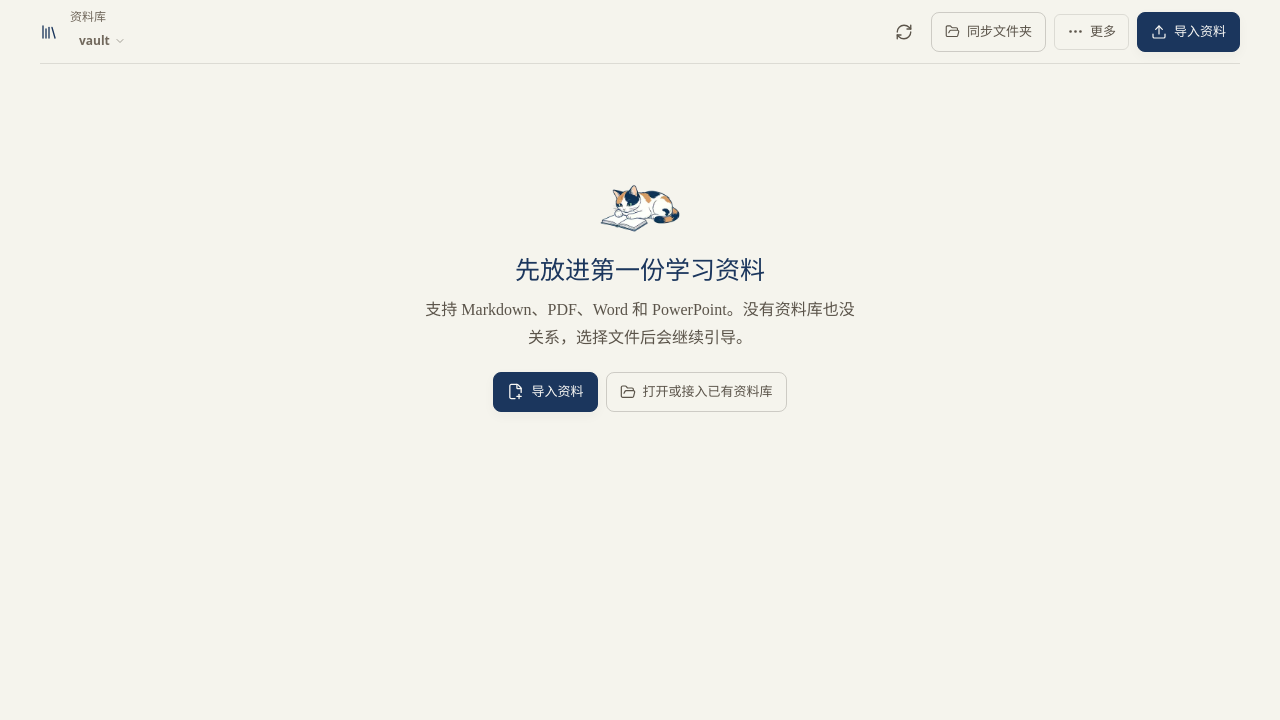
Test: 资料库文件夹同步 › 失败时给出可读错误，不显示摘要
Click the button "同步文件夹" at (988, 32), box left=931, top=12, right=1046, bottom=52
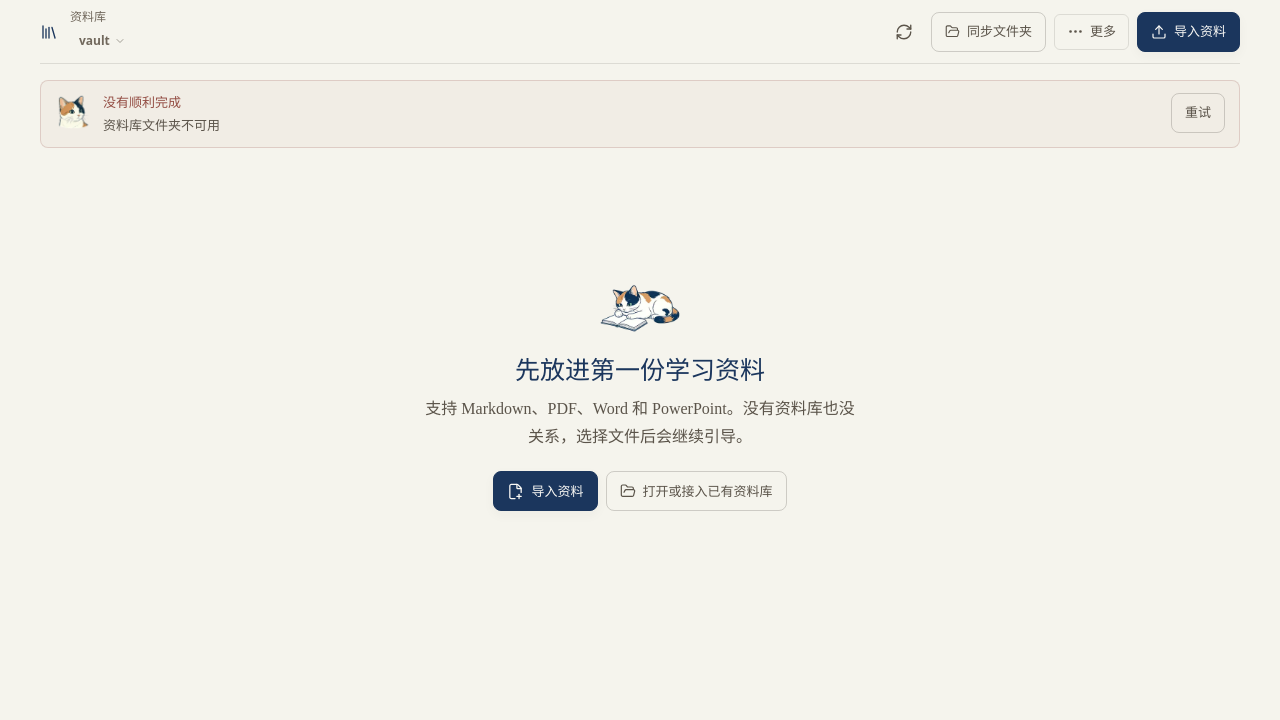
Expected: the message "没有顺利完成 资料库文件夹不可用 重试" is shown, left=40, top=80, right=1240, bottom=148
Expected: the message shows "资料库文件夹不可用", left=103, top=116, right=220, bottom=134
